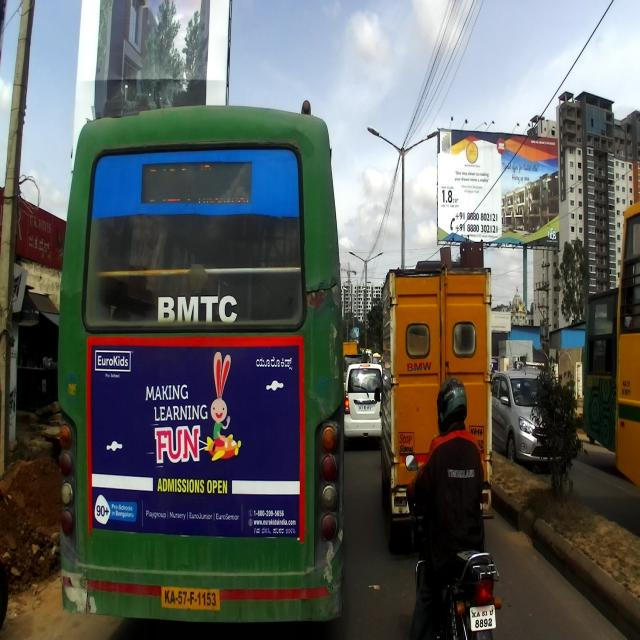Car_Maruti-Suzuki: (492, 364, 577, 470)
bus: (56, 97, 346, 624)
motorcycle_Hero: (400, 450, 502, 638)
truck: (377, 254, 496, 560)
